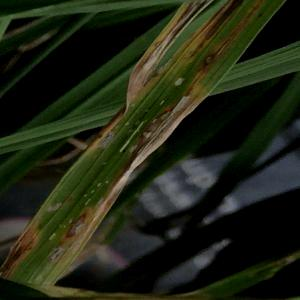1 RiceBlast: (58, 211, 95, 239), (40, 242, 69, 261)
